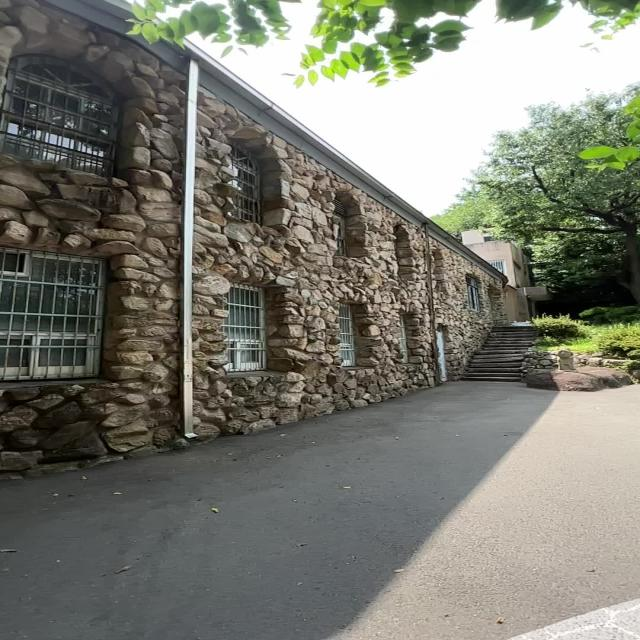building: (0, 60, 487, 419)
